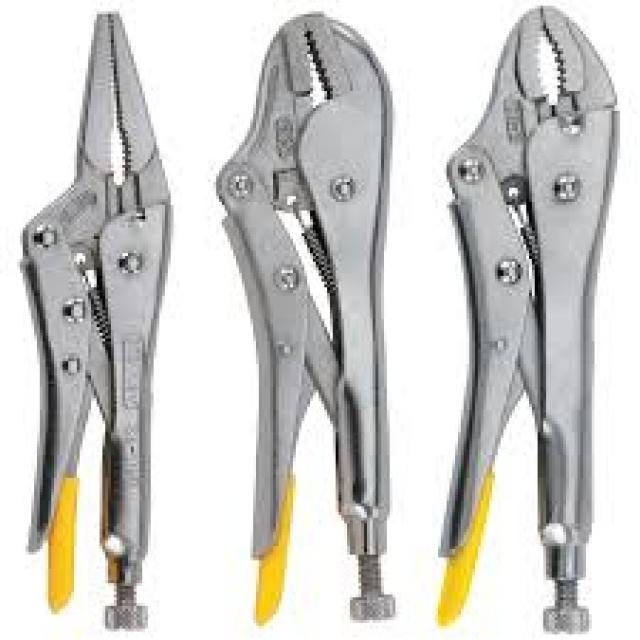pliers: (204, 0, 401, 634), (438, 0, 628, 640), (12, 5, 175, 636)
